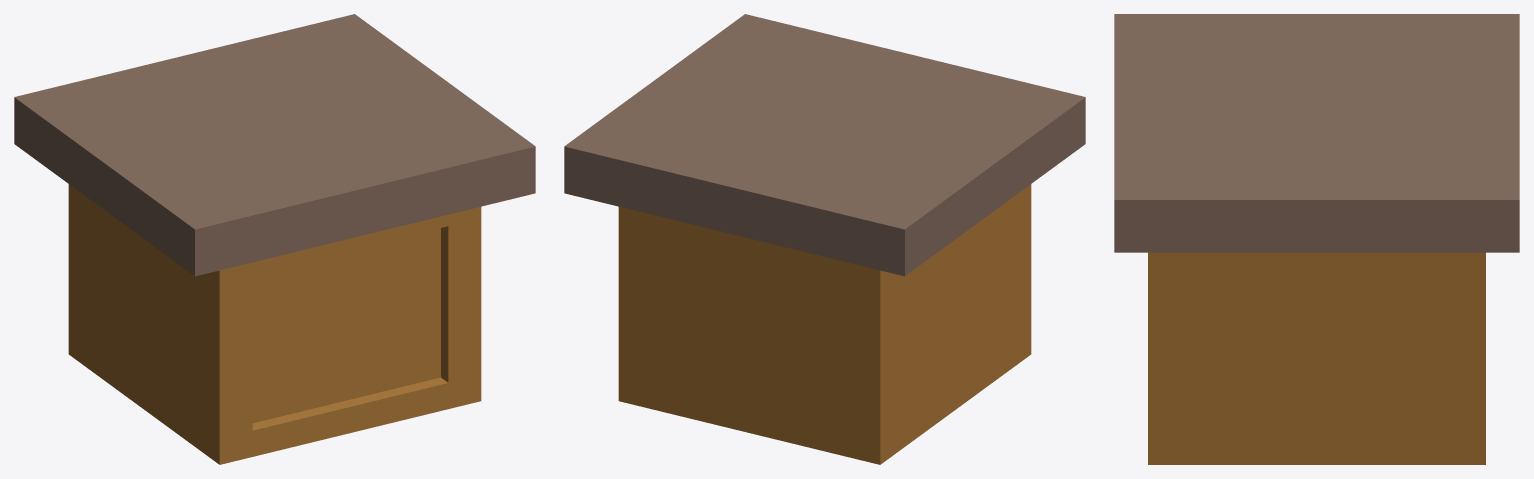
File: small counter 1.fbx
3 renders of one model, left to right at view 1: azimuth 30°, elevation 25°; view 2: azimuth 150°, elevation 25°; view 3: azimuth 270°, elevation 25°, orthographic. The views are drawn at different scales.
Parts seen in each view (by area): view 1: smol_counter; view 2: smol_counter; view 3: smol_counter.
Part boxes in pixels (<box>): smol_counter: <box>14,14,535,464</box>; smol_counter: <box>564,14,1085,464</box>; smol_counter: <box>1114,14,1519,464</box>.
Bounding box in the file's own units: 117 × 84.29 × 108.
2 materials, 2 textured.
